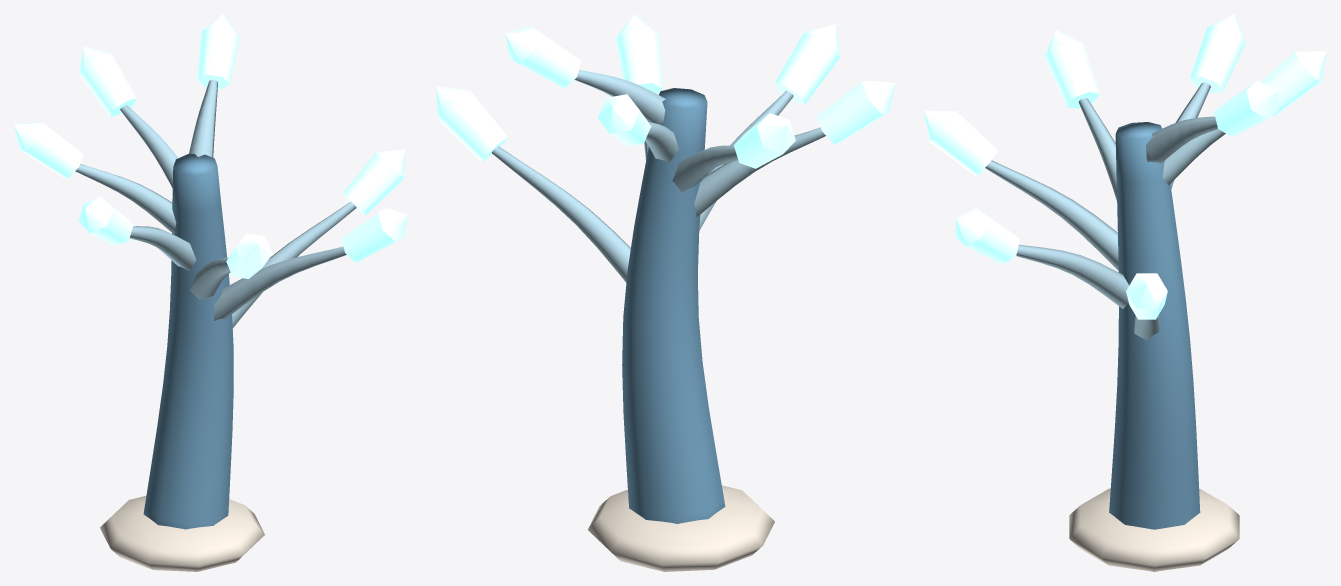
File: TreeFrost.glb
3 views of the same model, side by side, from view 1: azimuth 30°, elevation 25°; view 2: azimuth 150°, elevation 25°; view 3: azimuth 270°, elevation 25° (orthographic). The views are drawn at different scales.
Visible parts, largest first — view 1: Body, Glow; view 2: Body, Glow; view 3: Body, Glow.
Part boxes in pixels (left/top/right/bottom): Body: left=75, top=79, right=356, bottom=571; Glow: left=14, top=14, right=407, bottom=278; Body: left=492, top=70, right=825, bottom=571; Glow: left=436, top=14, right=895, bottom=168; Body: left=985, top=82, right=1239, bottom=571; Glow: left=924, top=14, right=1326, bottom=319.
Bounding box in the file's own units: 6.04 × 7.56 × 5.38.
Materials: 2 (1 with a texture image).
